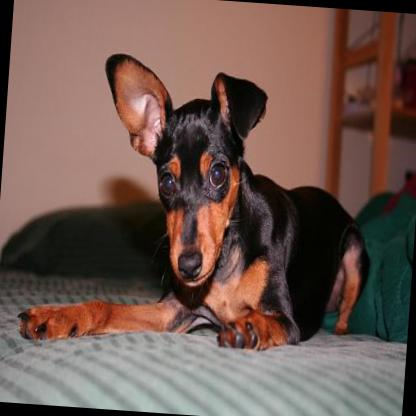miniature_pinscher: (15, 45, 384, 366)
